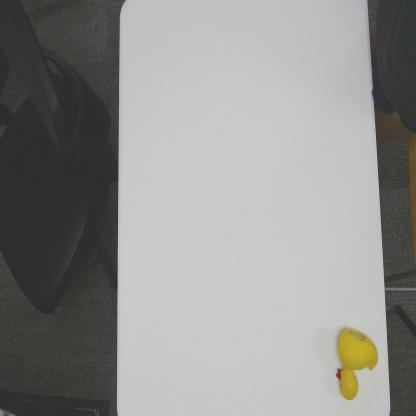Duck: (334, 323, 379, 403)
